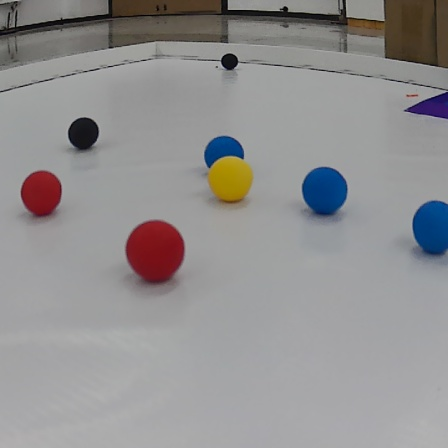black: (66, 118, 104, 150), (220, 51, 241, 71)
blue: (302, 165, 346, 212), (410, 201, 448, 254), (206, 134, 246, 167)
red: (124, 220, 185, 282), (19, 170, 62, 218)
yellow: (204, 153, 253, 204)
